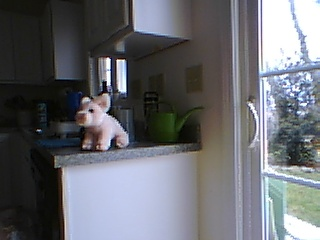piggy: (74, 92, 131, 152)
